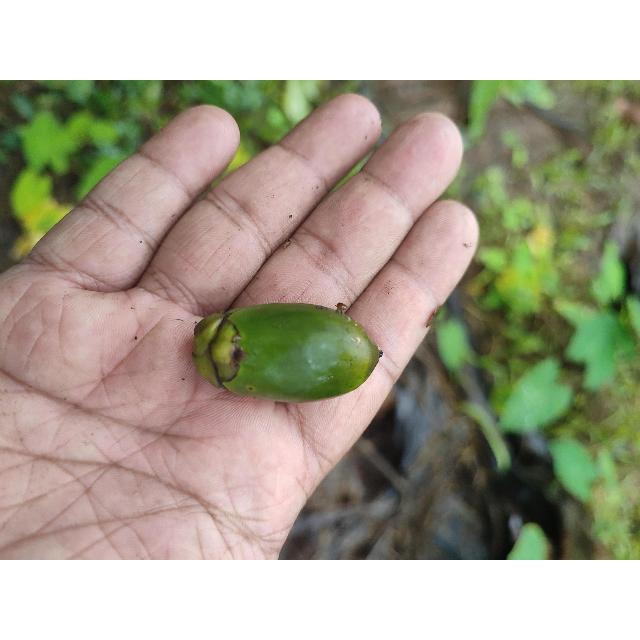damaged: (191, 302, 383, 405)
